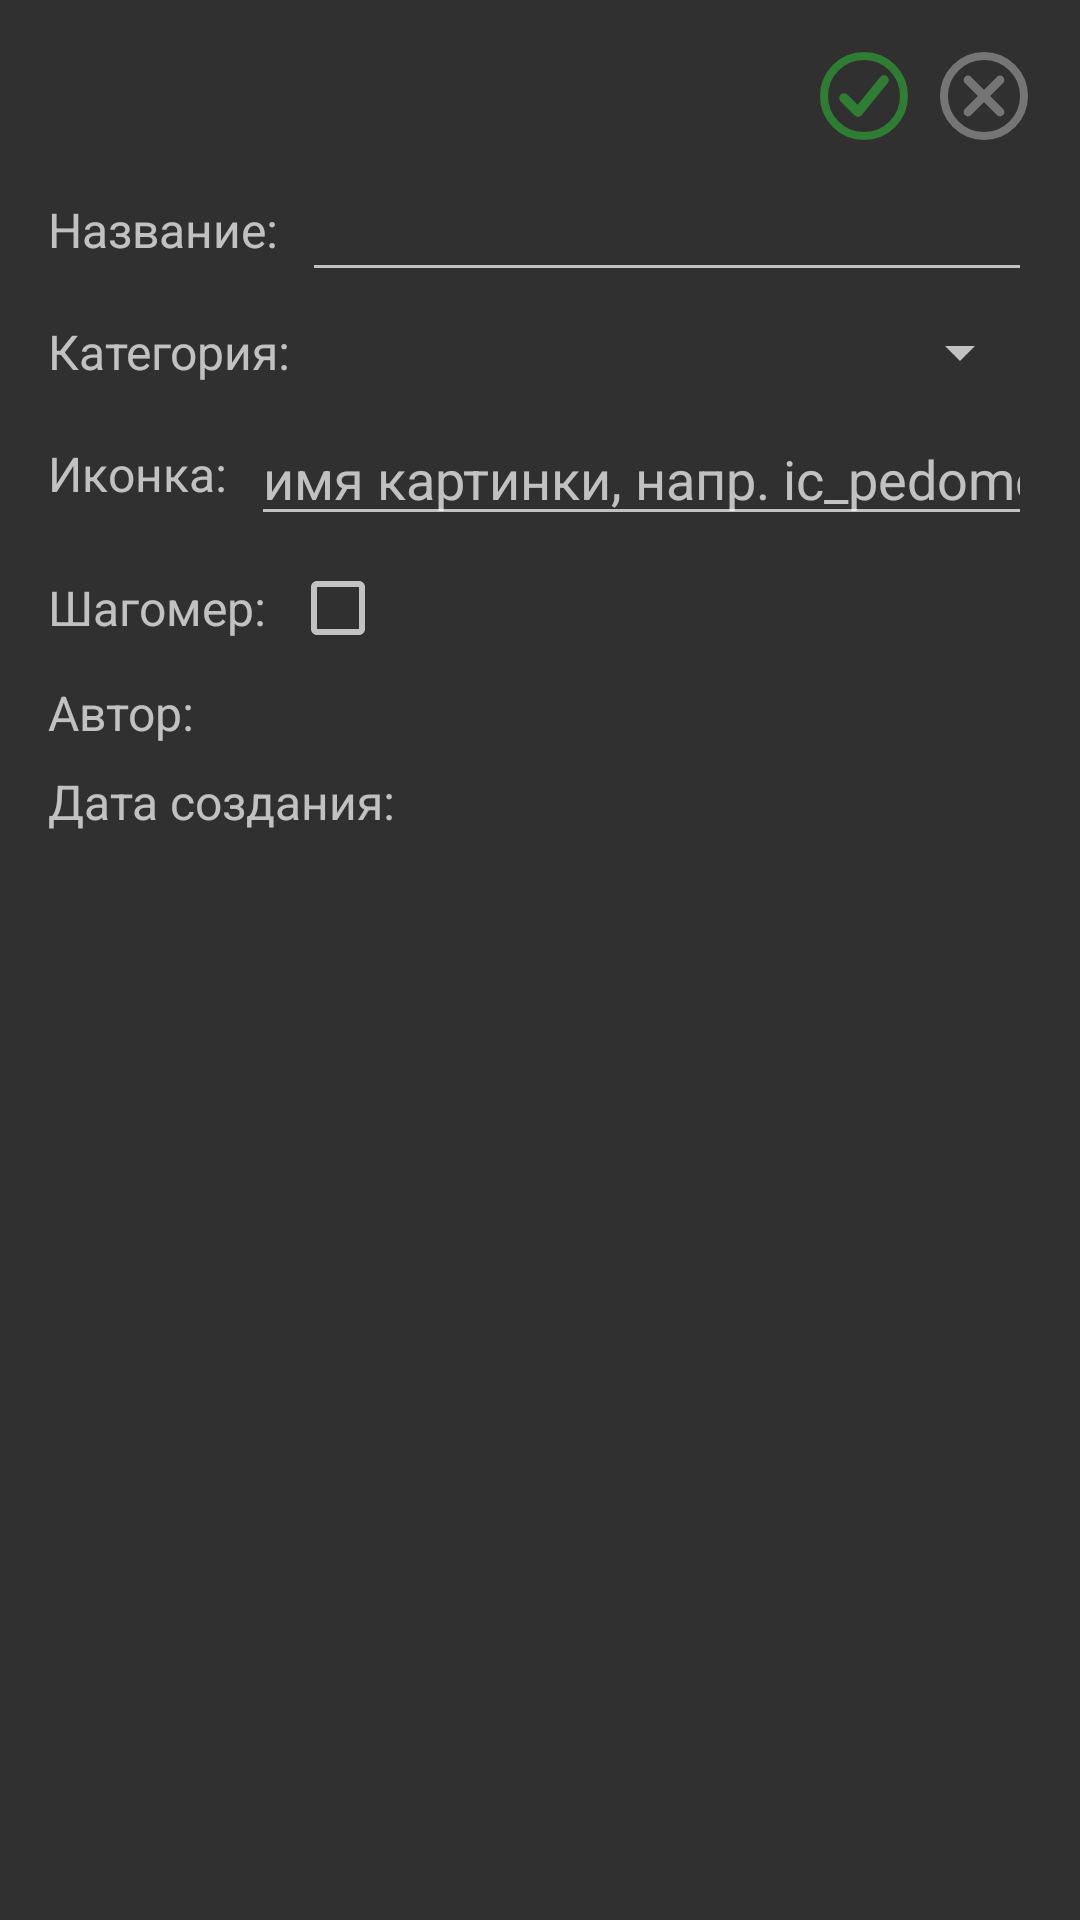

Icon click points for this 1080px x 1920px phone screenshot, format point (x, y):
Cancel: point (984, 96)
OK: point (864, 96)
